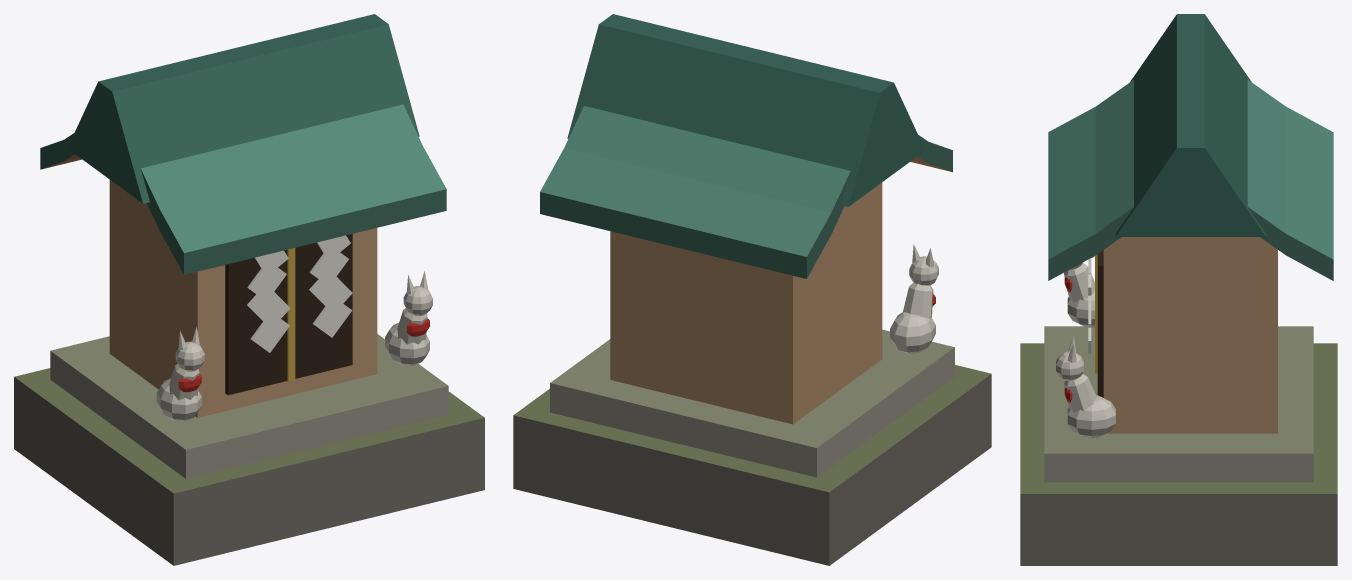
File: Shrine_Hokora.fbx
The picture shows the model from 3 angles, left to right: view 1: azimuth 30°, elevation 25°; view 2: azimuth 150°, elevation 25°; view 3: azimuth 270°, elevation 25°; orthographic projection. The views are drawn at different scales.
Visible parts, largest first — view 1: Shrine_Hokora; view 2: Shrine_Hokora; view 3: Shrine_Hokora.
Part boxes in pixels (<box>): Shrine_Hokora: <box>14,14,484,565</box>; Shrine_Hokora: <box>513,14,991,565</box>; Shrine_Hokora: <box>1020,14,1337,565</box>.
Bounding box in the file's own units: 9 × 11.4 × 8.
